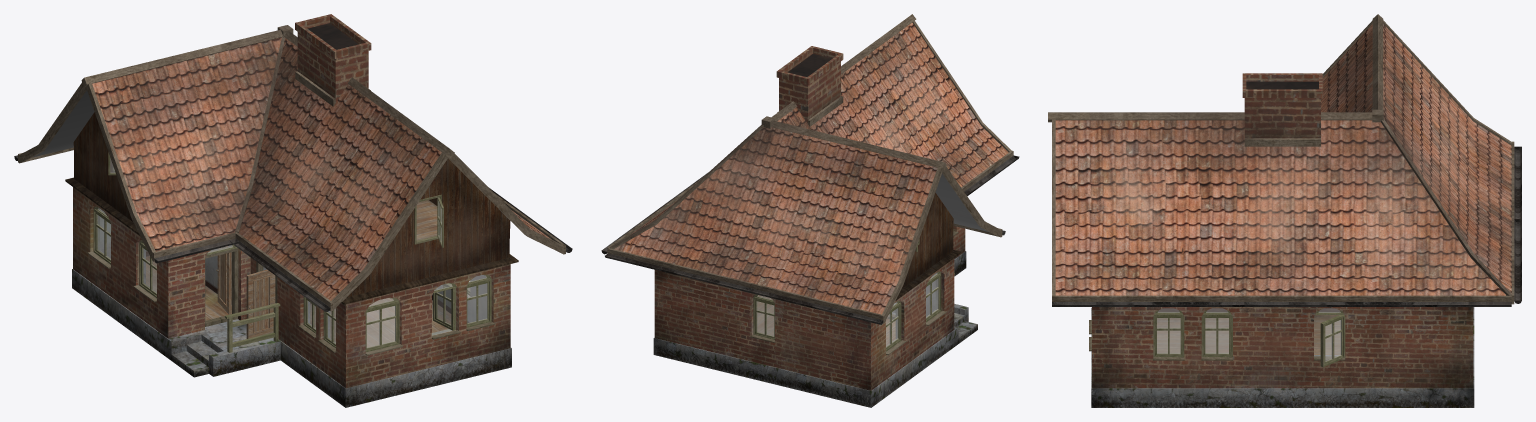
File: old_cottage.glb
The picture shows the model from 3 angles, left to right: view 1: azimuth 30°, elevation 25°; view 2: azimuth 150°, elevation 25°; view 3: azimuth 270°, elevation 25°; orthographic projection. The views are drawn at different scales.
Visible parts, largest first — view 1: dach_PVC FoamBoard Green_0, DOL_PVC FoamBoard Green_0, pietro_PVC FoamBoard Green_0, OKNO_PVC FoamBoard Red_0; view 2: dach_PVC FoamBoard Green_0, DOL_PVC FoamBoard Green_0, pietro_PVC FoamBoard Green_0, OKNO_PVC FoamBoard Red_0; view 3: dach_PVC FoamBoard Green_0, DOL_PVC FoamBoard Green_0, OKNO_PVC FoamBoard Red_0.
Part boxes in pixels (<box>): dach_PVC FoamBoard Green_0: <box>14,14,572,311</box>; DOL_PVC FoamBoard Green_0: <box>72,187,511,407</box>; pietro_PVC FoamBoard Green_0: <box>65,112,518,304</box>; OKNO_PVC FoamBoard Red_0: <box>97,159,487,347</box>; dach_PVC FoamBoard Green_0: <box>601,14,1019,324</box>; DOL_PVC FoamBoard Green_0: <box>653,226,977,407</box>; pietro_PVC FoamBoard Green_0: <box>895,192,960,300</box>; OKNO_PVC FoamBoard Red_0: <box>757,273,938,346</box>; dach_PVC FoamBoard Green_0: <box>1048,14,1521,306</box>; DOL_PVC FoamBoard Green_0: <box>1089,307,1474,407</box>; OKNO_PVC FoamBoard Red_0: <box>1157,308,1341,361</box>.
Size of the model in its own units: 988 by 825 by 1242.
4 materials, 3 textured.
